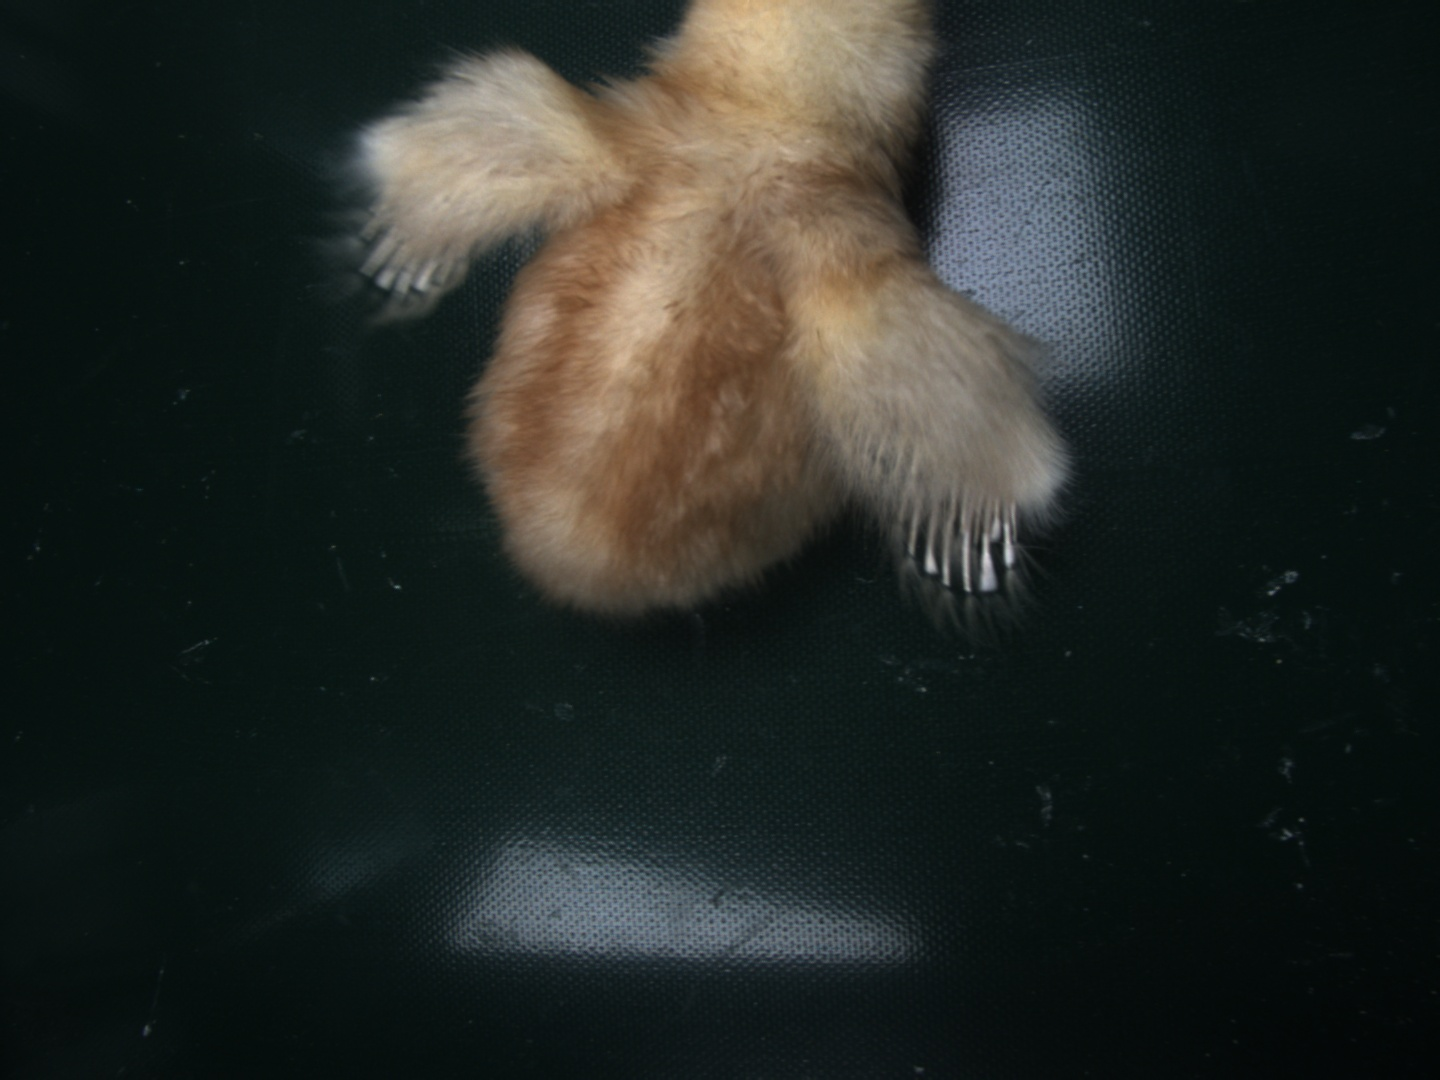female: (903, 470, 1022, 597)
